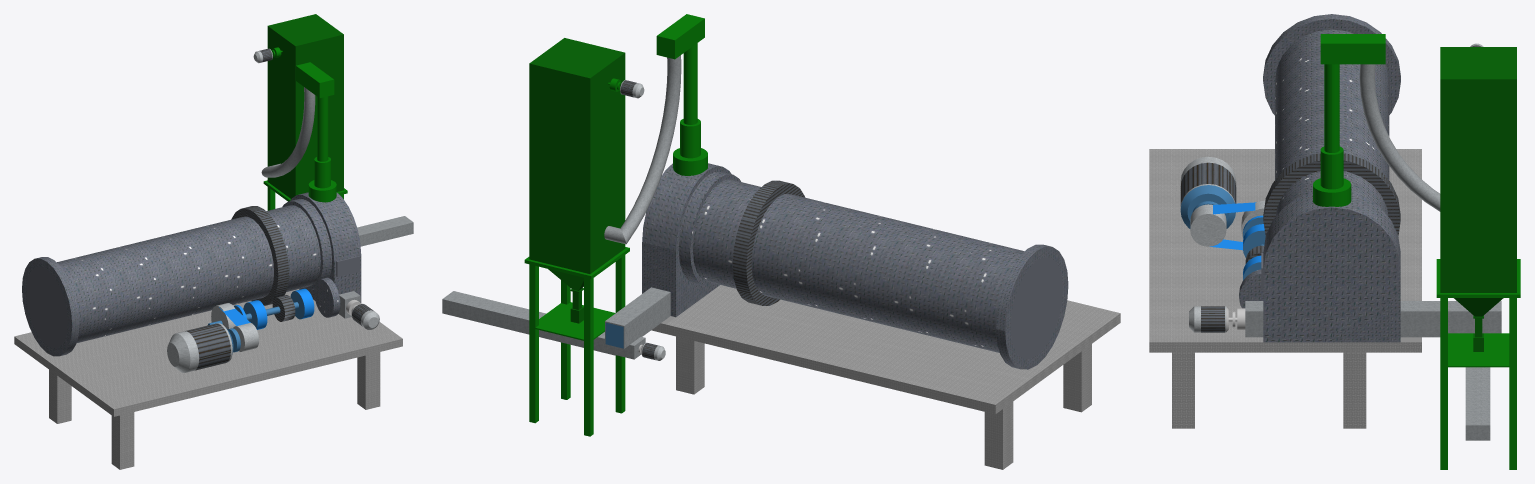
The model's file is 致密机.glb.
The picture shows the model from 3 angles, left to right: view 1: azimuth 30°, elevation 25°; view 2: azimuth 150°, elevation 25°; view 3: azimuth 270°, elevation 25°; orthographic projection. The views are drawn at different scales.
Parts seen in each view (by area): view 1: root.016, root.017, root.004, root.001, root.003, root.009, root.014, root.002, root.019, root.007, root.015, root.011 (+1 smaller); view 2: root.017, root.004, root.016, root.003, root.001, root.014, root.007, root.002; view 3: root.004, root.016, root.014, root.017, root.003, root.007, root.009, root.001, root.002, root.011, root.019, root.015 (+1 smaller).
Boxes of the visible parts, x1=… form: root.016: x1=14, y1=289, x2=402, y2=469; root.017: x1=57, y1=199, x2=331, y2=342; root.004: x1=263, y1=14, x2=347, y2=210; root.001: x1=22, y1=257, x2=79, y2=356; root.003: x1=261, y1=62, x2=336, y2=202; root.009: x1=167, y1=323, x2=258, y2=372; root.014: x1=290, y1=192, x2=361, y2=302; root.002: x1=231, y1=206, x2=288, y2=305; root.019: x1=211, y1=288, x2=314, y2=329; root.007: x1=338, y1=216, x2=413, y2=318; root.015: x1=314, y1=277, x2=340, y2=317; root.011: x1=346, y1=299, x2=379, y2=329; root.017: x1=678, y1=172, x2=1024, y2=352; root.004: x1=524, y1=38, x2=629, y2=436; root.016: x1=651, y1=285, x2=1120, y2=469; root.003: x1=604, y1=14, x2=707, y2=244; root.001: x1=996, y1=244, x2=1068, y2=369; root.014: x1=642, y1=163, x2=731, y2=317; root.007: x1=442, y1=287, x2=670, y2=359; root.002: x1=732, y1=180, x2=805, y2=305; root.004: x1=1436, y1=47, x2=1520, y2=469; root.016: x1=1149, y1=149, x2=1421, y2=428; root.014: x1=1261, y1=192, x2=1400, y2=342; root.017: x1=1275, y1=29, x2=1389, y2=216; root.003: x1=1313, y1=34, x2=1440, y2=211; root.007: x1=1245, y1=301, x2=1501, y2=440; root.009: x1=1180, y1=156, x2=1236, y2=246; root.001: x1=1263, y1=14, x2=1400, y2=115; root.002: x1=1263, y1=153, x2=1400, y2=235; root.011: x1=1189, y1=306, x2=1245, y2=332; root.019: x1=1241, y1=200, x2=1265, y2=280; root.015: x1=1239, y1=269, x2=1263, y2=308.
Bounding box in the file's own units: 8.57 × 5.62 × 4.85.
12 materials, 7 textured.
